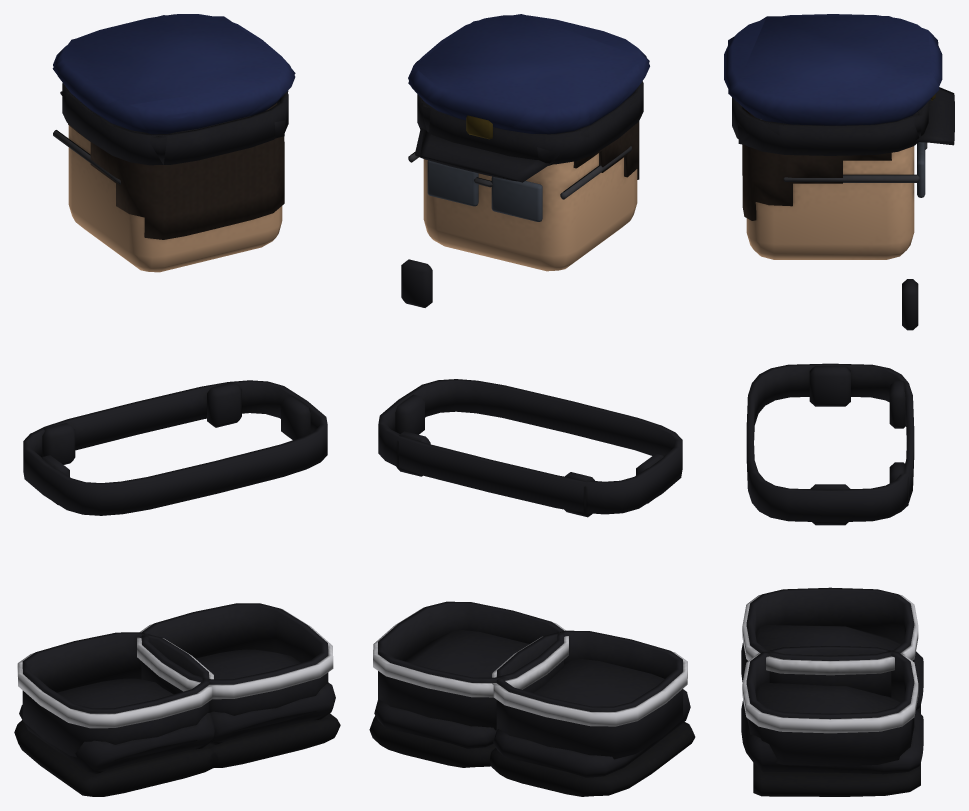
Rendered from Bloque_Oficio_Sergio.fbx.
3 renders of one model, left to right at view 1: azimuth 30°, elevation 25°; view 2: azimuth 150°, elevation 25°; view 3: azimuth 270°, elevation 25°, orthographic.
Parts seen in each view (by area): view 1: Cinturon, GorraLOD, BotaCanaL, BotaCanaR, Gorra, Pelo, BotaL, CabezaBloque, BotaR; view 2: Cinturon, GorraLOD, Gorra, BotaCanaL, CabezaBloque, BotaCanaR, BotaL, BotaR, GafasSol, Pelo, Radio; view 3: GorraLOD, Cinturon, Gorra, CabezaBloque, BotaCanaL, BotaCanaR, BotaR, Pelo, BotaL, GafasSol, Radio.
Part boxes in pixels (<box>): Cinturon: <box>23,380,327,515</box>; GorraLOD: <box>52,15,295,164</box>; BotaCanaL: <box>17,632,213,760</box>; BotaCanaR: <box>137,603,333,731</box>; Gorra: <box>53,14,295,165</box>; Pelo: <box>68,103,284,239</box>; BotaL: <box>14,678,218,796</box>; CabezaBloque: <box>68,125,282,272</box>; BotaR: <box>195,649,340,767</box>; Cinturon: <box>378,379,682,517</box>; GorraLOD: <box>408,14,649,182</box>; Gorra: <box>408,15,649,181</box>; BotaCanaL: <box>492,630,687,759</box>; CabezaBloque: <box>423,153,637,271</box>; BotaCanaR: <box>373,601,568,730</box>; BotaL: <box>489,659,695,796</box>; BotaR: <box>369,630,529,767</box>; GafasSol: <box>408,146,631,221</box>; Pelo: <box>573,121,639,179</box>; Radio: <box>401,259,432,307</box>; GorraLOD: <box>728,16,954,145</box>; Cinturon: <box>746,363,914,525</box>; Gorra: <box>724,14,954,155</box>; CabezaBloque: <box>746,146,914,259</box>; BotaCanaL: <box>742,587,918,697</box>; BotaCanaR: <box>742,646,918,766</box>; BotaR: <box>741,683,923,796</box>; Pelo: <box>742,108,891,220</box>; BotaL: <box>741,625,923,713</box>; GafasSol: <box>783,142,927,197</box>; Radio: <box>902,279,918,330</box>.
Size of the model in its own units: 228 by 547 by 168.
